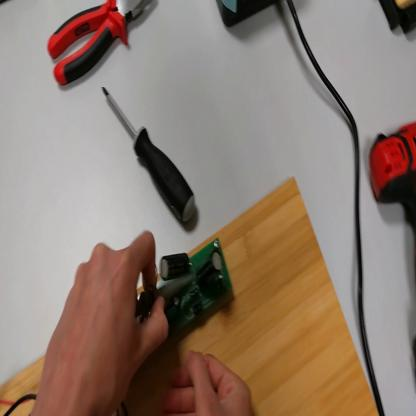electric screwdriver: (369, 120, 416, 381)
hand: (41, 232, 166, 415), (165, 353, 252, 416)
high voltage board: (2, 236, 232, 415)
oscilloscope probe tip: (139, 279, 195, 319)
pliers: (49, 1, 151, 99)
screwdriver-: (102, 86, 197, 228)
welder base: (380, 3, 416, 40)
welder station: (217, 1, 283, 37)
working area: (1, 175, 380, 415)
